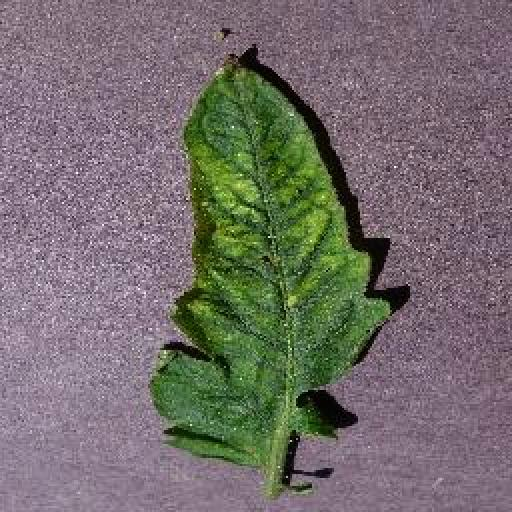disease_tomato: (146, 51, 390, 469)
